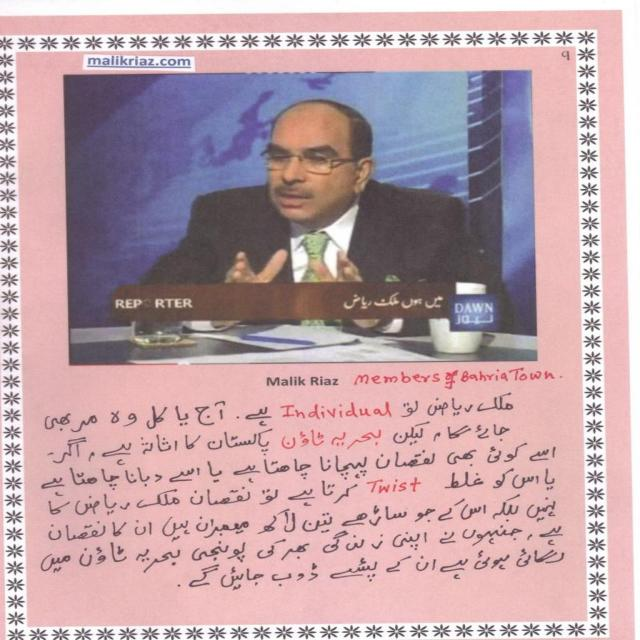nomask: (269, 114, 350, 218)
